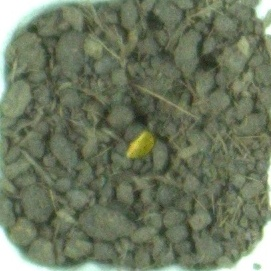pepper seed: (43, 48, 203, 209)
